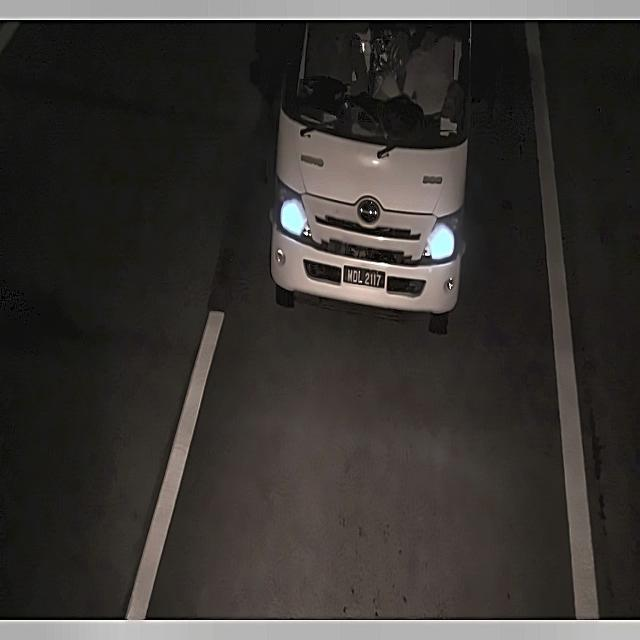car: (339, 254, 390, 300)
